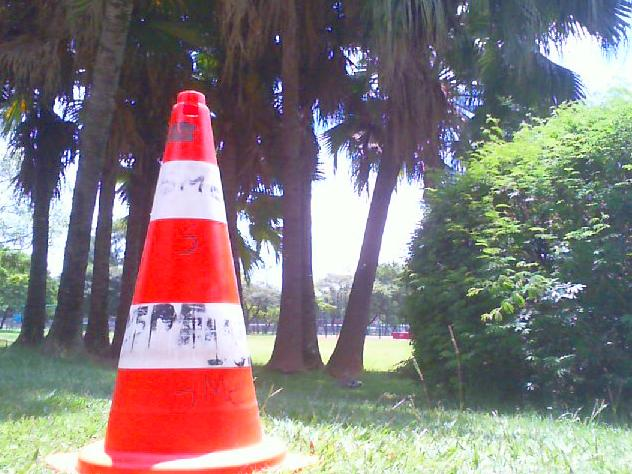0 cone: (46, 90, 316, 474)
